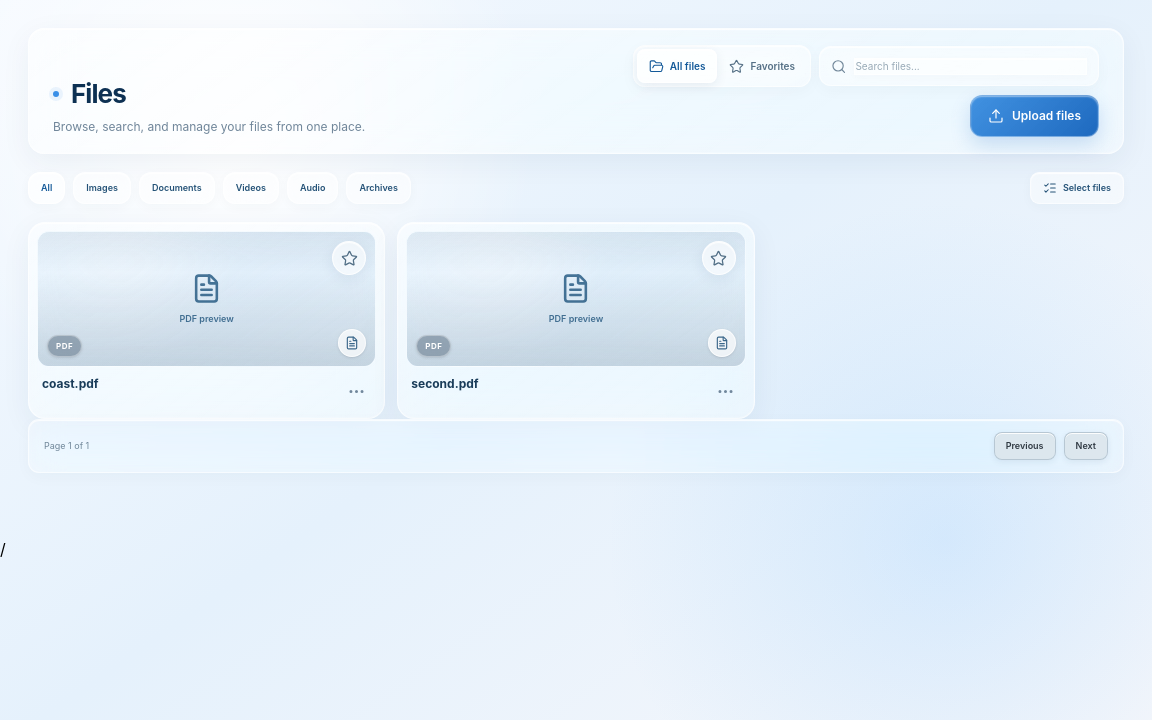
it: page workflows › reports partial deletion and storage cleanup warnings for mixed bulk results
The width and height of the screenshot is (1152, 720).
Expected: the heading "coast.pdf" is shown, x1=42 y1=376 x2=98 y2=392
Click the button "Select files".
click(1077, 188)  # box x1=1030 y1=172 x2=1124 y2=204
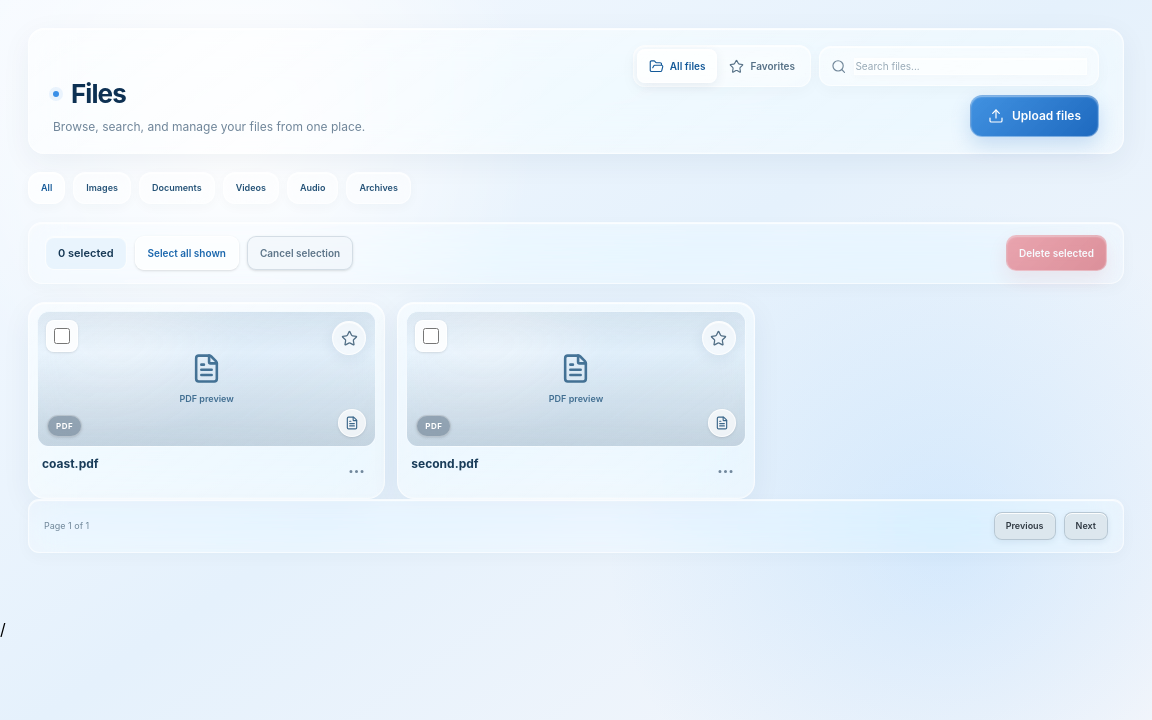
Click the checkbox named "Select coast.pdf".
click(62, 336)  # box x1=54 y1=328 x2=70 y2=344
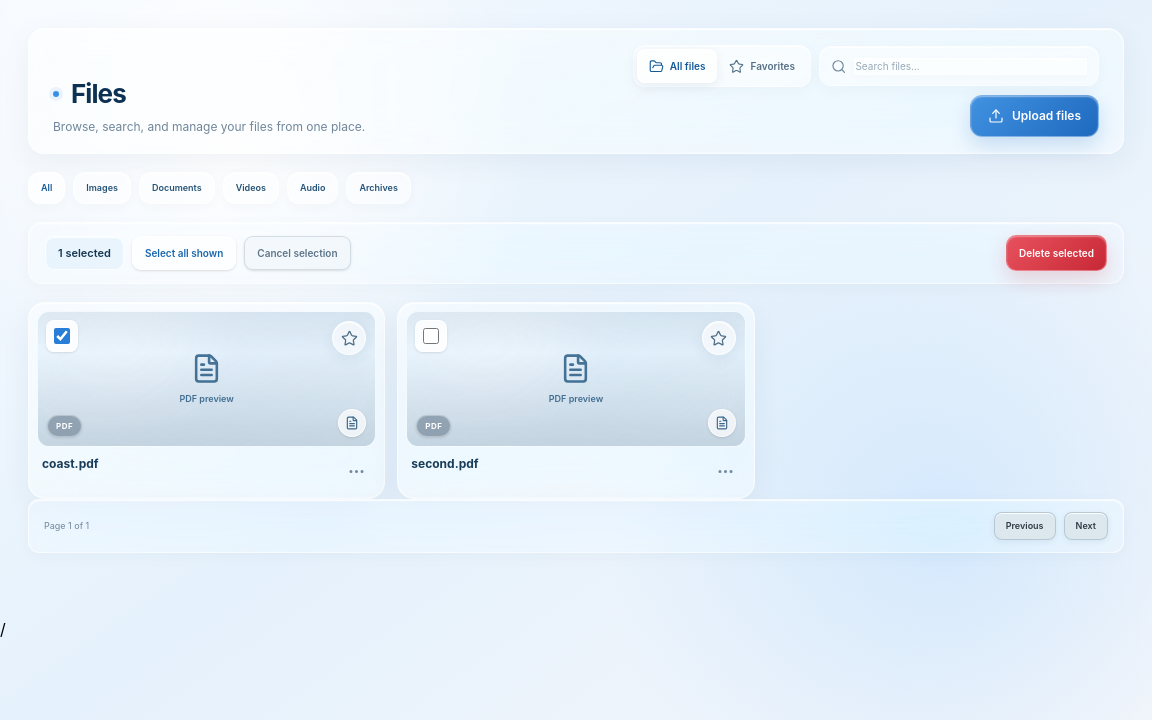
Click the checkbox named "Select second.pdf".
click(431, 336)  # box x1=423 y1=328 x2=439 y2=344
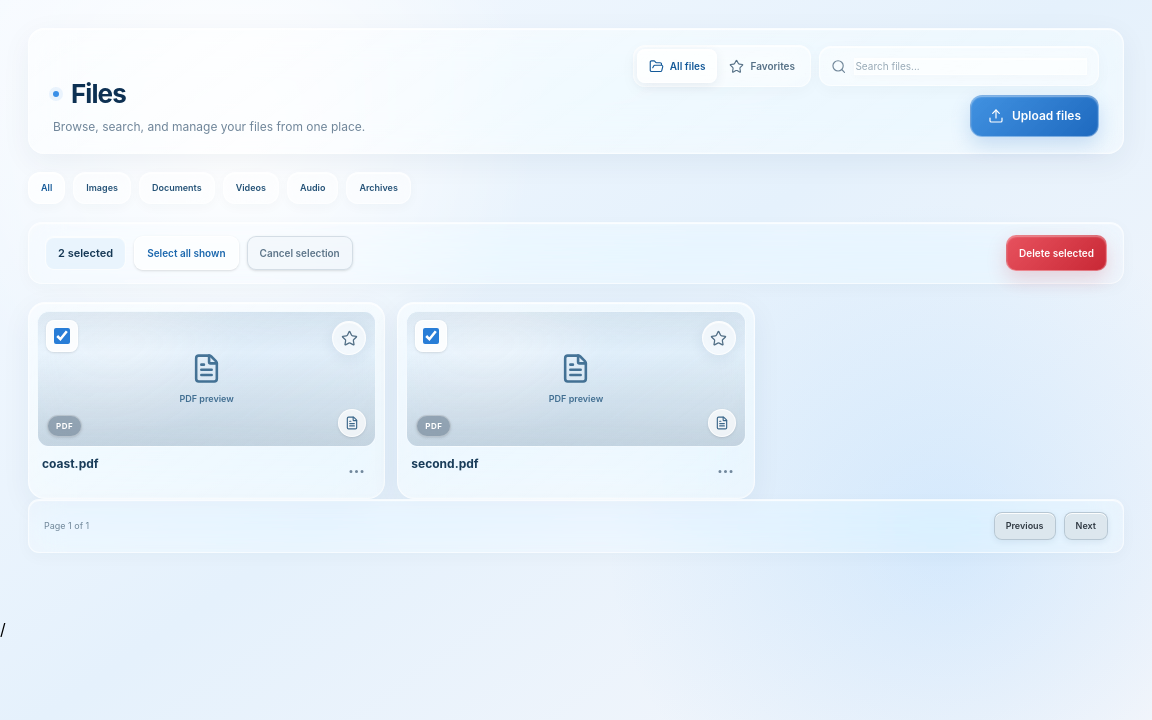
Click the button "Delete selected".
click(1057, 253)  # box x1=1006 y1=235 x2=1107 y2=271
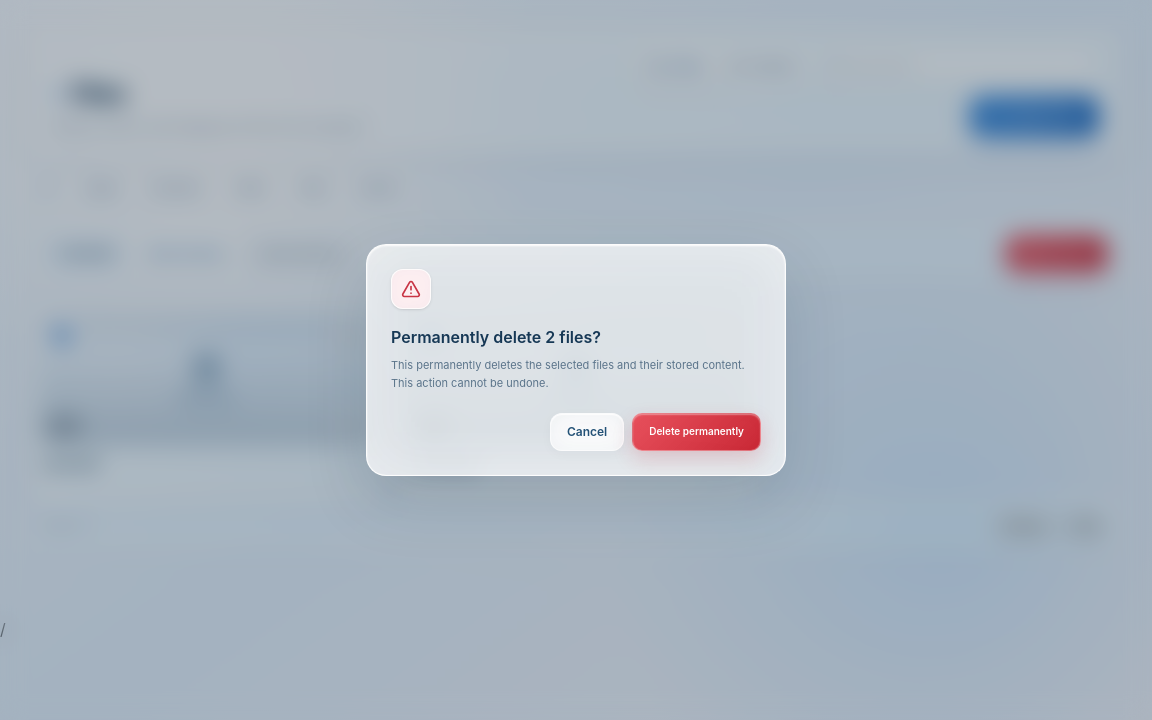
Click the button "Delete permanently".
click(697, 432)  # box x1=632 y1=413 x2=761 y2=451
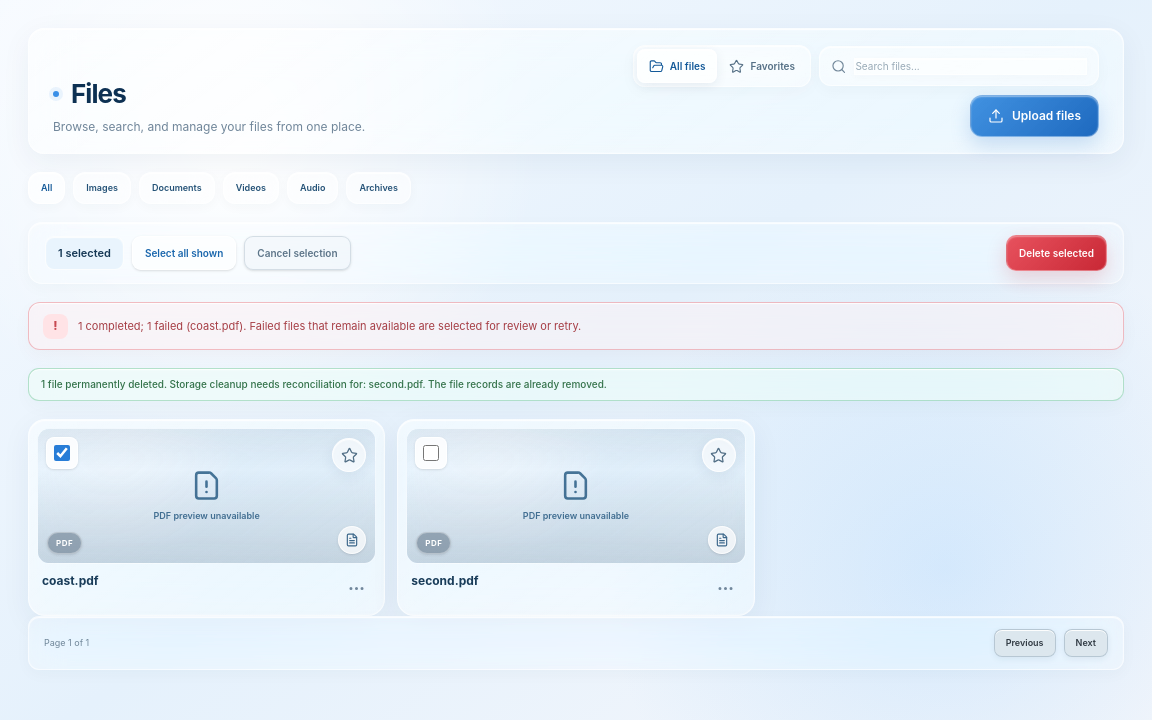
Now the checkbox named "Select coast.pdf" is checked, box x1=54 y1=445 x2=70 y2=461
Now the text "1 completed; 1 failed (coast.pdf)" is shown, box x1=78 y1=319 x2=581 y2=333
Now the text "Storage cleanup needs reconciliation for: second.pdf" is shown, box x1=41 y1=378 x2=607 y2=390
